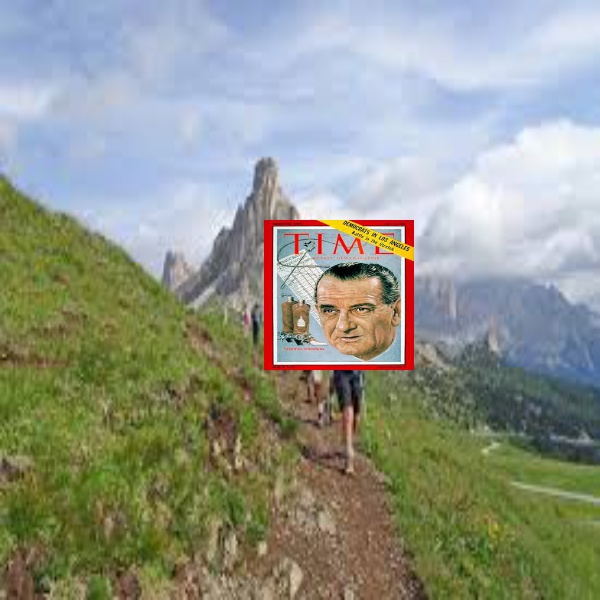time_cover: (263, 198, 424, 371)
